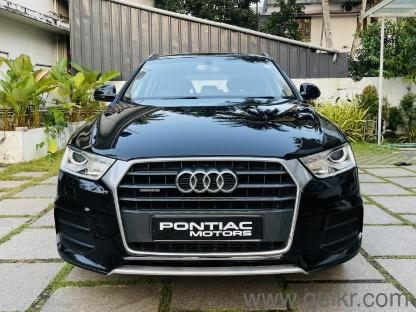car: (46, 42, 370, 286)
